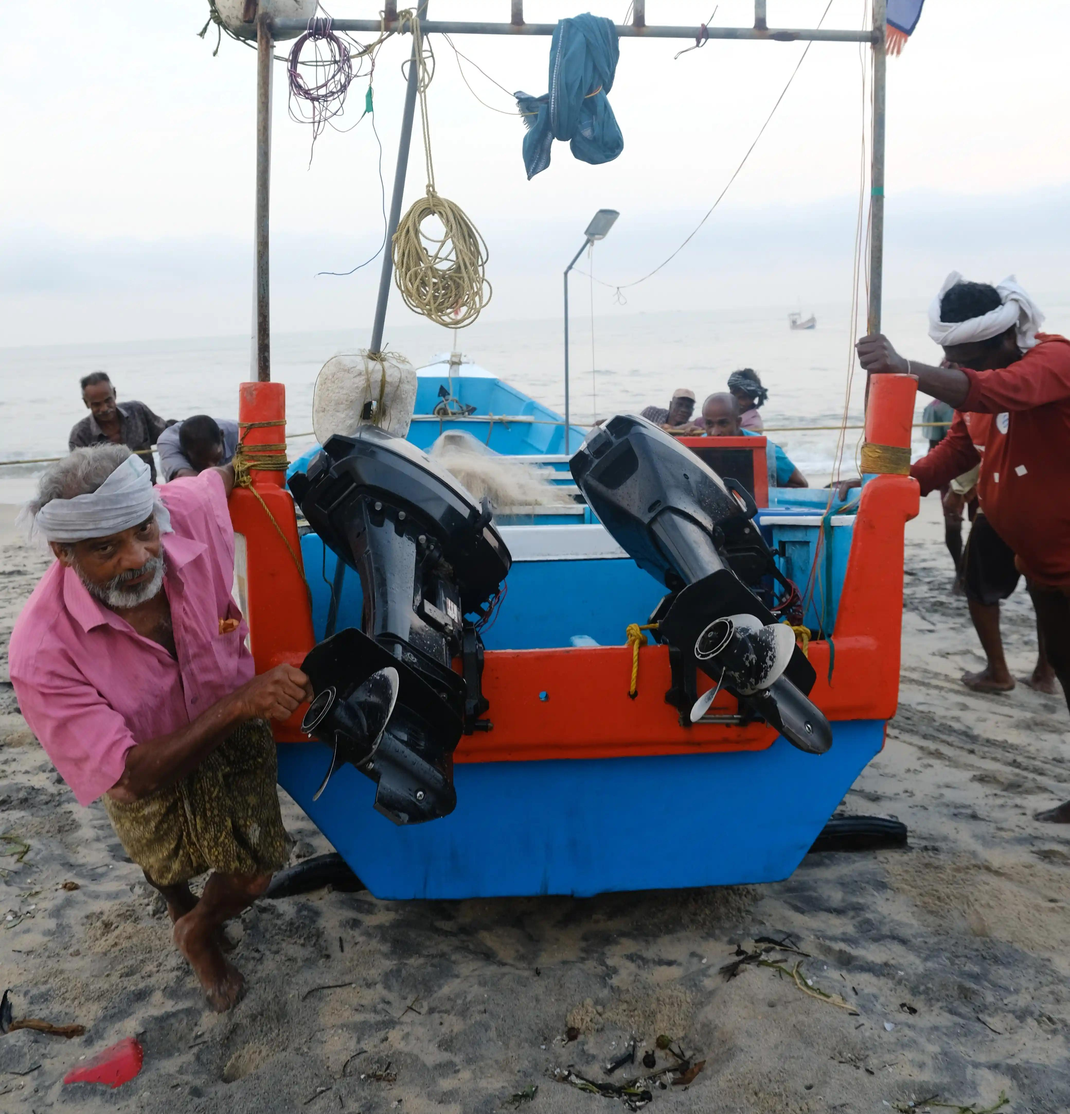fishing boat: (208, 0, 925, 905)
